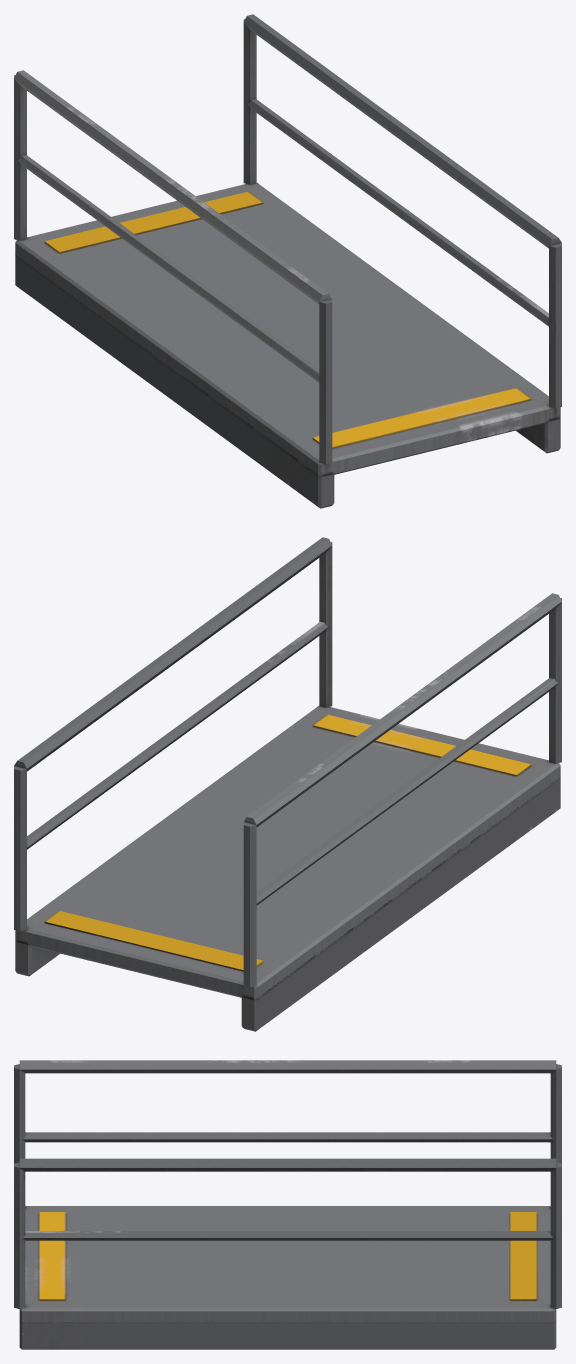
The model's file is nodexeus-set-gangway.glb.
The picture shows the model from 3 angles, top to bottom: view 1: azimuth 30°, elevation 25°; view 2: azimuth 150°, elevation 25°; view 3: azimuth 270°, elevation 25°; orthographic projection. The views are drawn at different scales.
Parts seen in each view (by area): view 1: set-gangway; view 2: set-gangway; view 3: set-gangway.
Part boxes in pixels (bbox=[...]): set-gangway: bbox=[14, 14, 561, 508]; set-gangway: bbox=[14, 537, 561, 1031]; set-gangway: bbox=[14, 1060, 561, 1349].
Size of the model in its own units: 1.5 by 1.26 by 3.34.
Materials: 1 (1 with a texture image).
